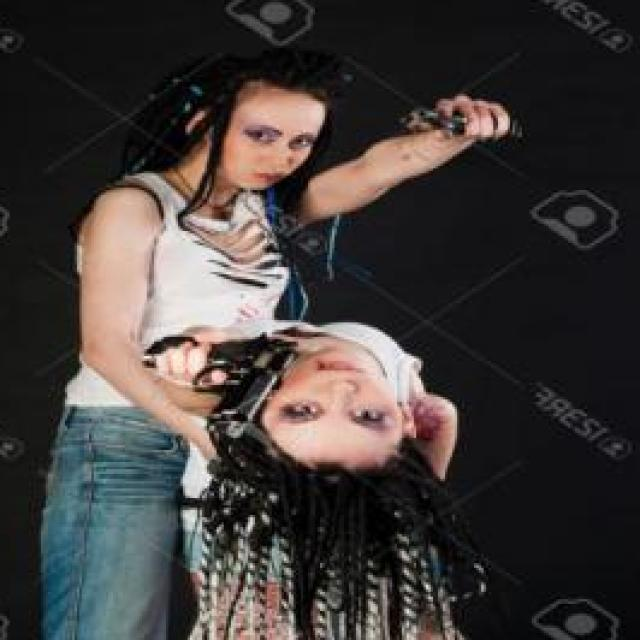pistol: (150, 325, 298, 450), (384, 106, 505, 142)
